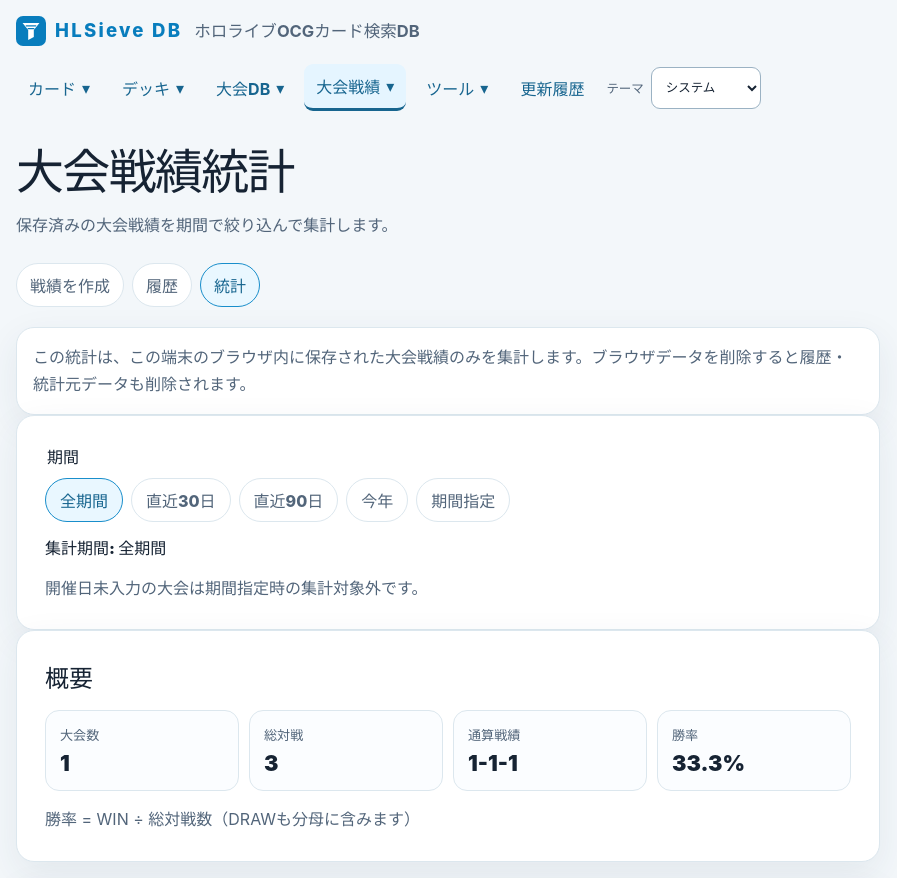
TournamentStatsPage › requires a valid custom range, applies inclusive dates, and resets from no match
Check: the heading "概要" is shown, box left=45, top=664, right=93, bottom=693
Click the radio button labelled "期間指定": (463, 500) left=416, top=478, right=510, bottom=522
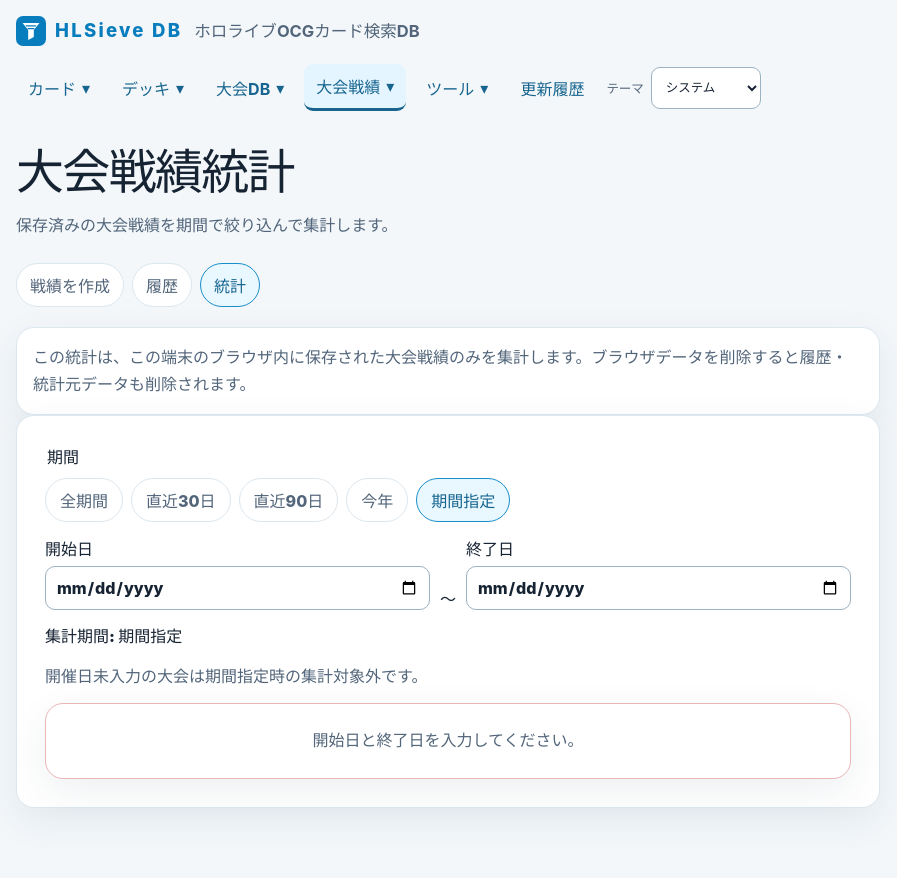
Check: the date field labelled "開始日" is shown
Check: the date field labelled "終了日" is shown, box left=466, top=566, right=851, bottom=610
Check: the message reads "開始日と終了日を入力してください。", box left=312, top=730, right=584, bottom=750
In the date field labelled "開始日": (238, 588) left=45, top=566, right=430, bottom=610, type "2026-09-14"
In the date field labelled "終了日": (658, 588) left=466, top=566, right=851, bottom=610, type "2026-09-13"
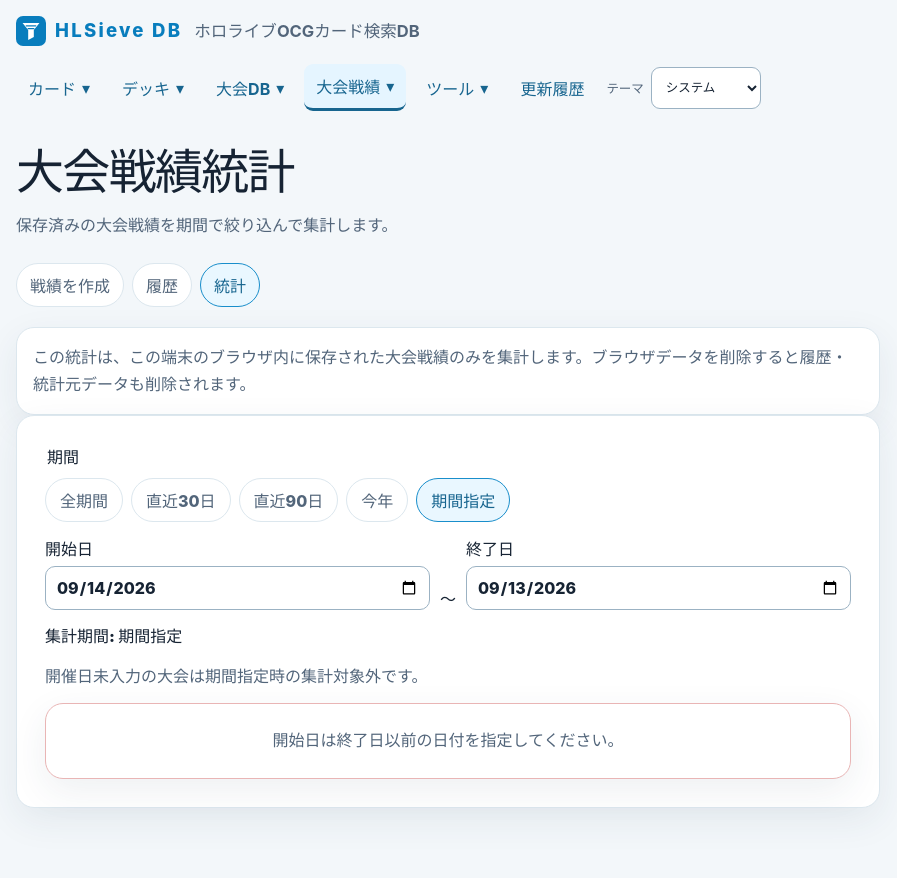
Check: the message reads "開始日は終了日以前の日付を指定してください。", box left=272, top=730, right=624, bottom=750
In the date field labelled "開始日": (238, 588) left=45, top=566, right=430, bottom=610, type "2026-09-13"
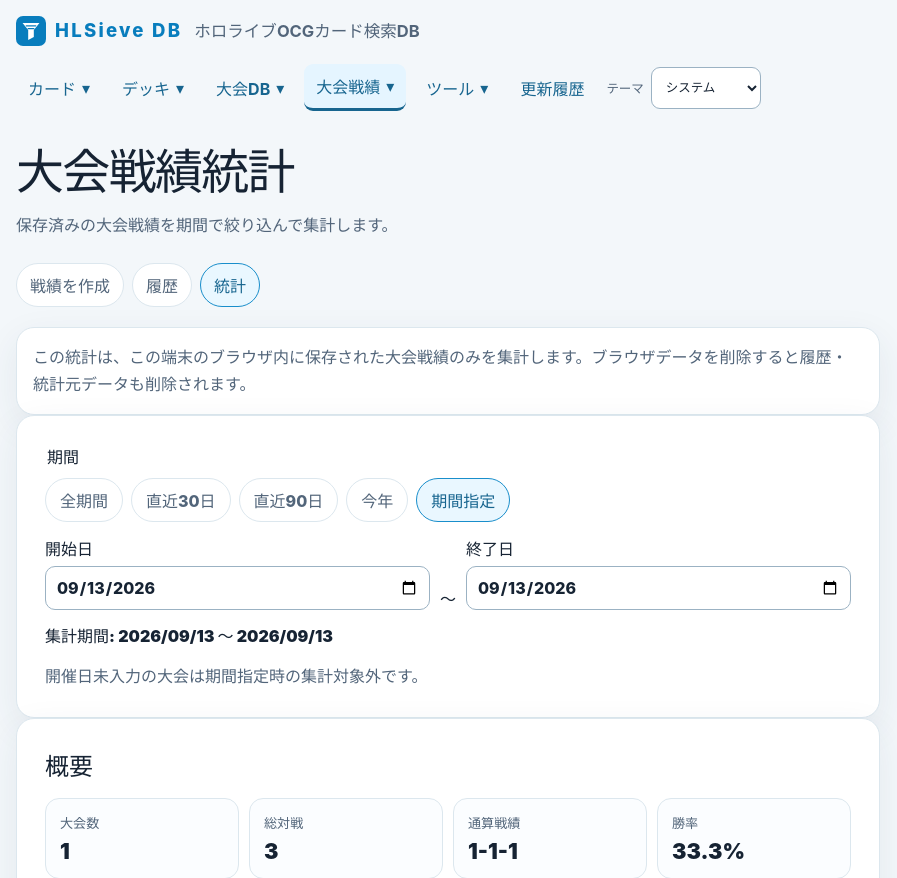
Check: the text "集計期間: 2026/09/13 ～ 2026/09/13" is shown, box left=45, top=626, right=333, bottom=646
Check: the heading "概要" is shown, box left=45, top=752, right=93, bottom=781
In the date field labelled "開始日": (238, 588) left=45, top=566, right=430, bottom=610, type "2026-09-14"
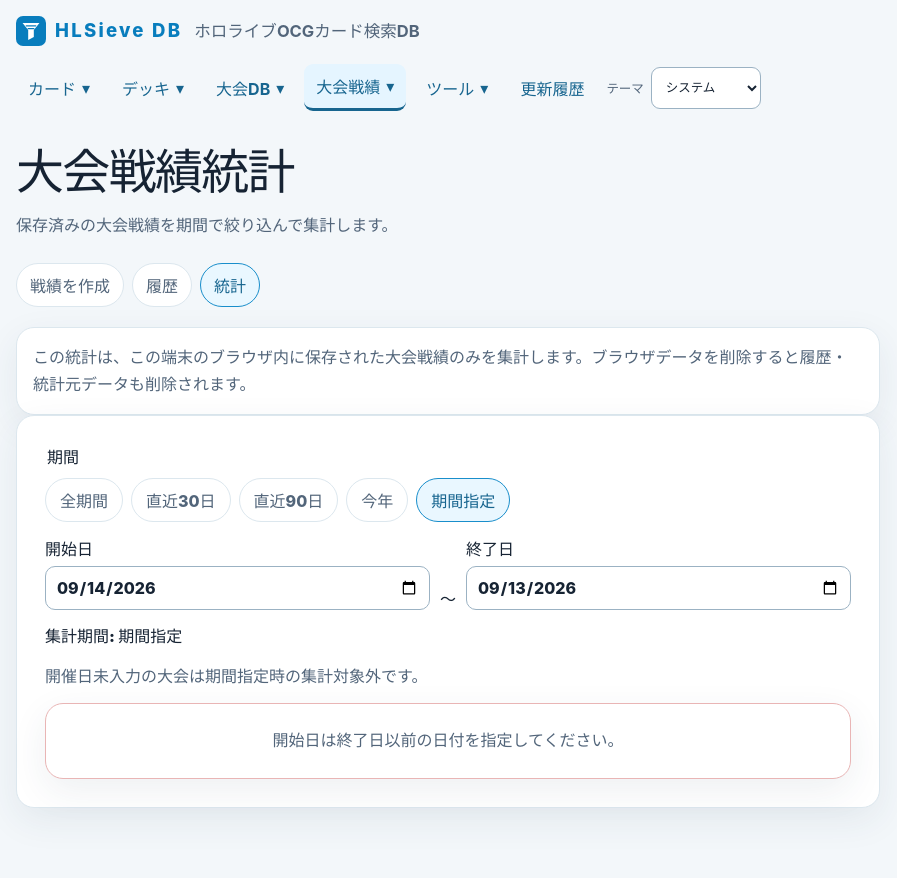
In the date field labelled "終了日": (658, 588) left=466, top=566, right=851, bottom=610, type "2026-09-14"
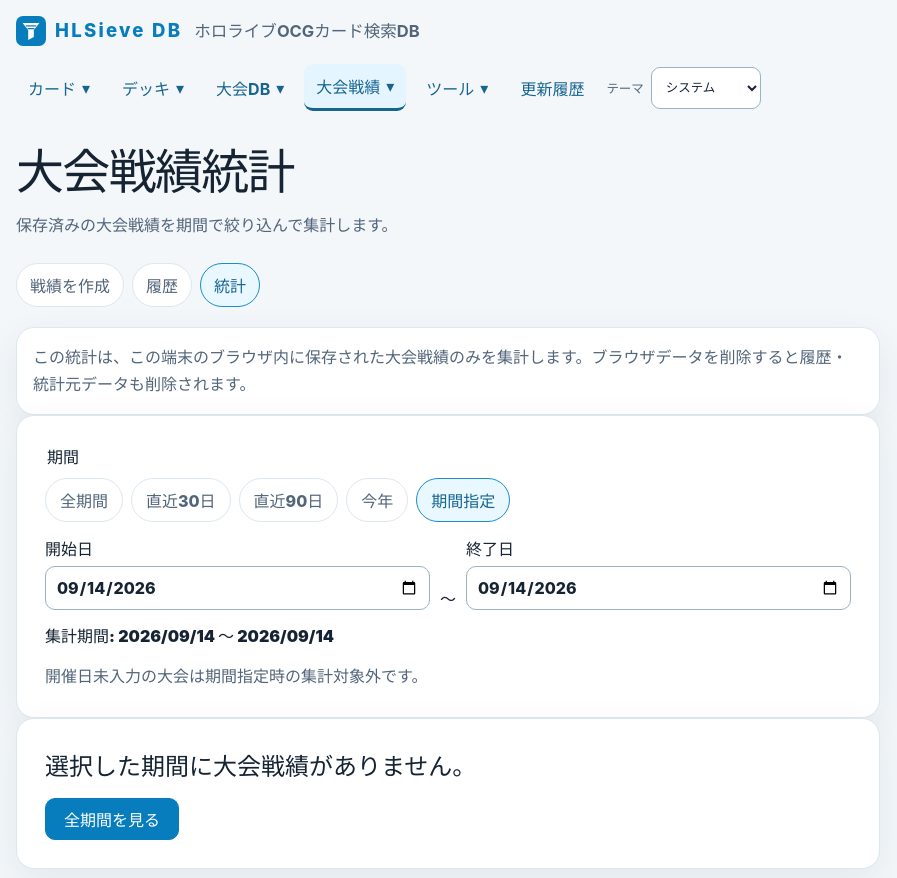
Check: the heading "選択した期間に大会戦績がありません。" is shown, box left=45, top=747, right=476, bottom=782
Click the button "全期間を見る": (112, 819) left=45, top=798, right=179, bottom=840
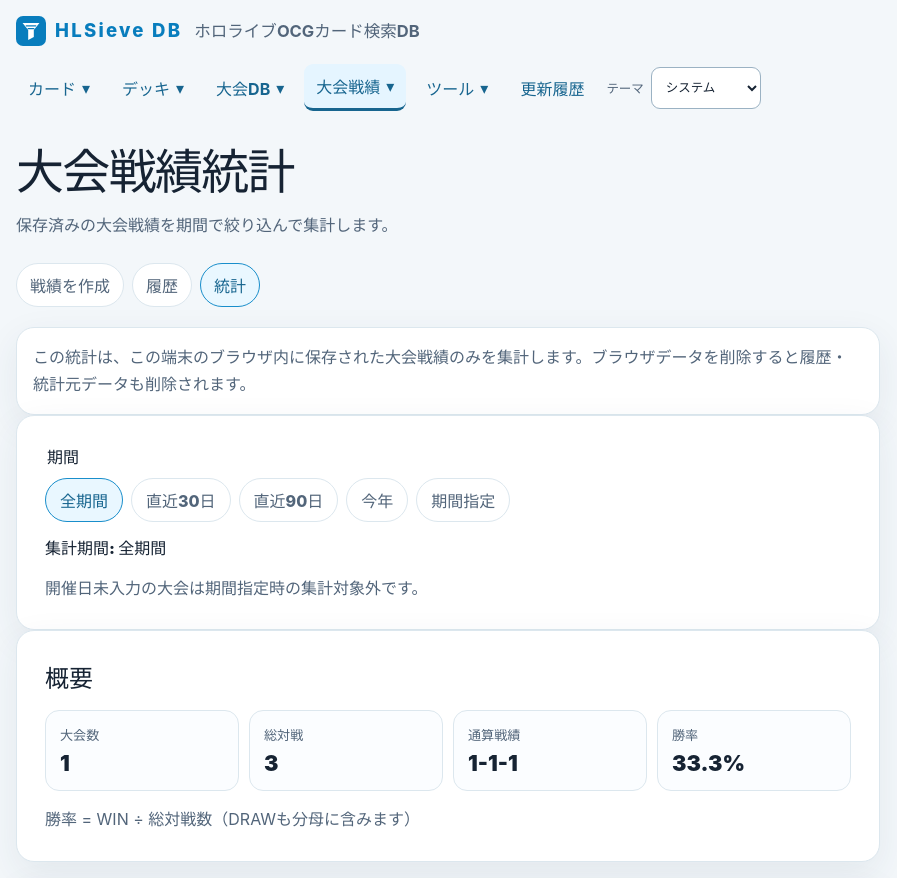
Check: the radio button labelled "全期間" is checked, box left=45, top=478, right=123, bottom=522
Check: the heading "概要" is shown, box left=45, top=664, right=93, bottom=693
